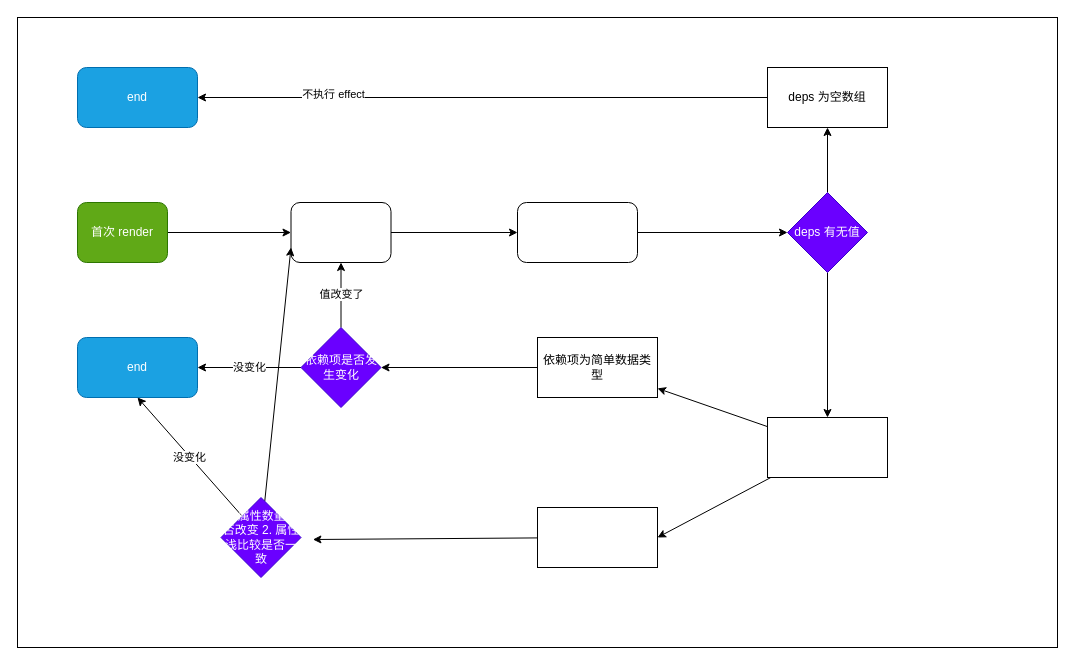
The diagram is 1075 pixels wide and 665 high, and some of its shapes have lost their labels. The centre of each missing label's shape, as x and y in pixels:
deps 不为空数组: point 827,447
依赖项为复杂数据类型: point 597,537
后续其他条件导致的 render: point 577,232
执行 effect 函数: point 340,232
